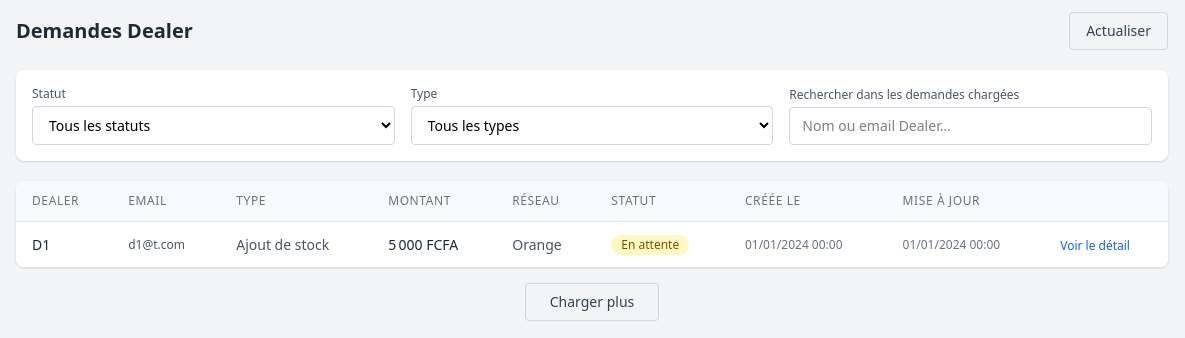
Test: TC-041-RT-S — StoreAdminDealerRequests temps réel › [RT-S-02] pas de doublons lors de pagination (dedup par id)
The image size is (1185, 338).
Click the button with test id "btn-load-more" at coordinates (592, 302), box [525, 283, 659, 321]
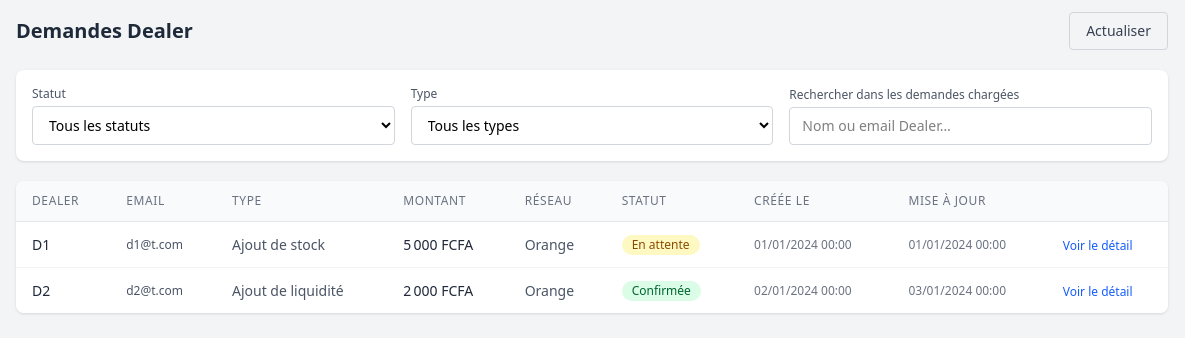
Result: the row with test id "request-row-sr-2" is shown at [16, 268, 1168, 313]
